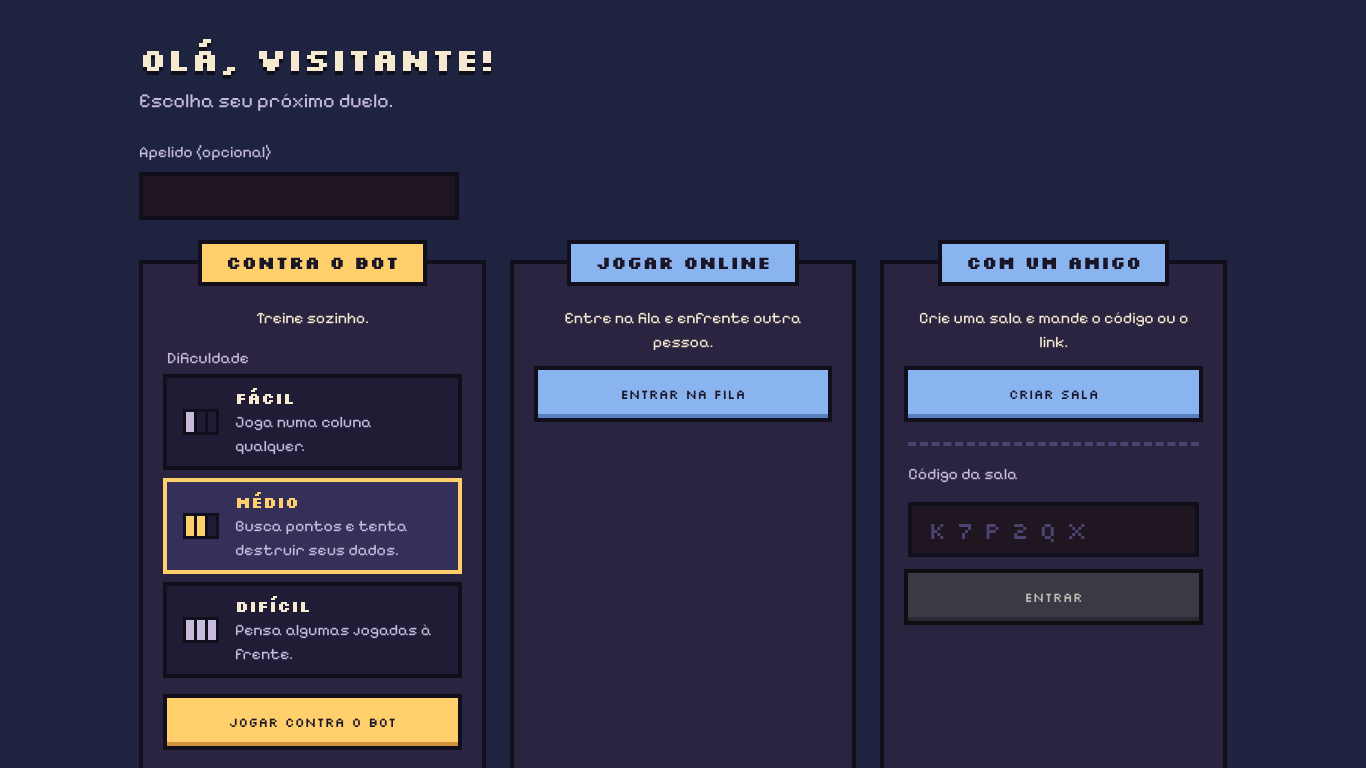
Test: Lobby › avisa quando o servidor recusa a entrada
This screenshot has width=1366, height=768.
Click the button "Entrar na fila".
click(683, 394)  # box [538,370,828,418]
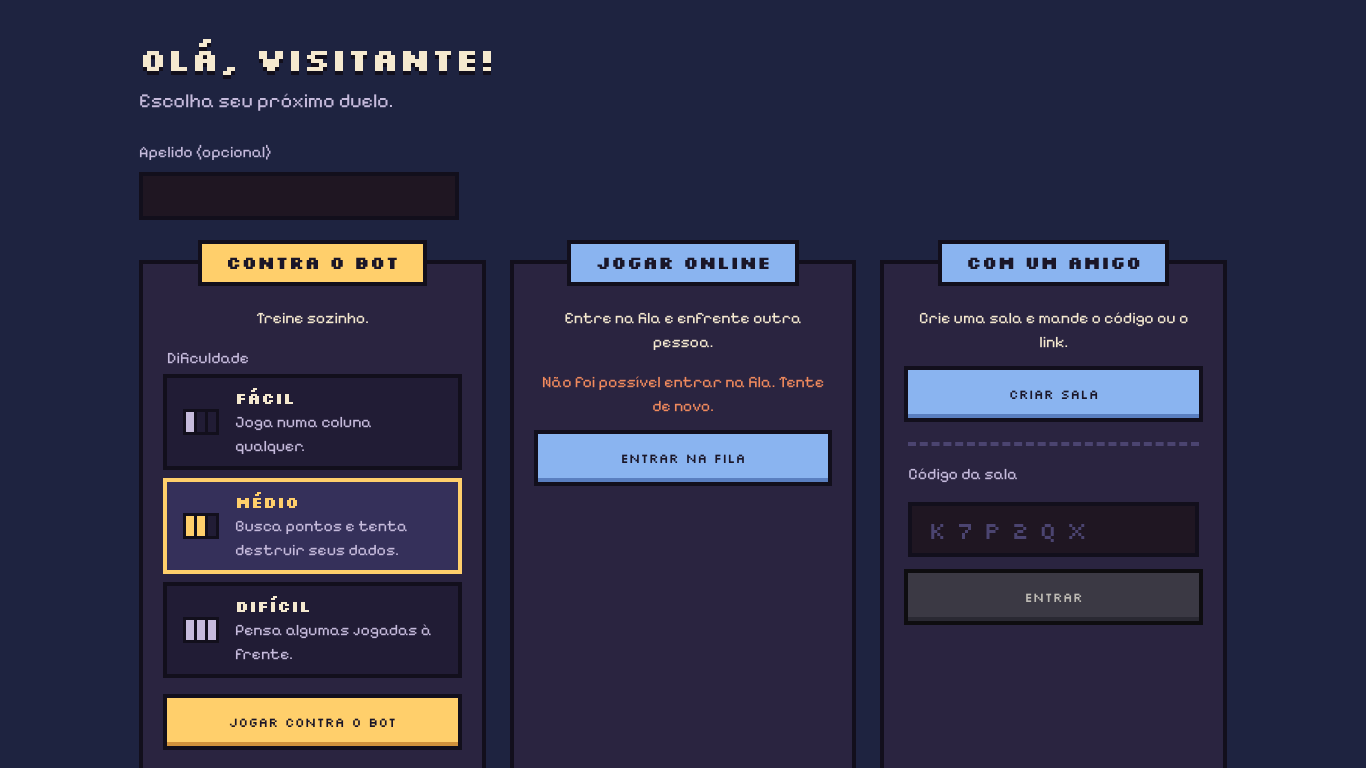
Result: the message shows "Não foi possível entrar na fila" at [542,372,824,415]
